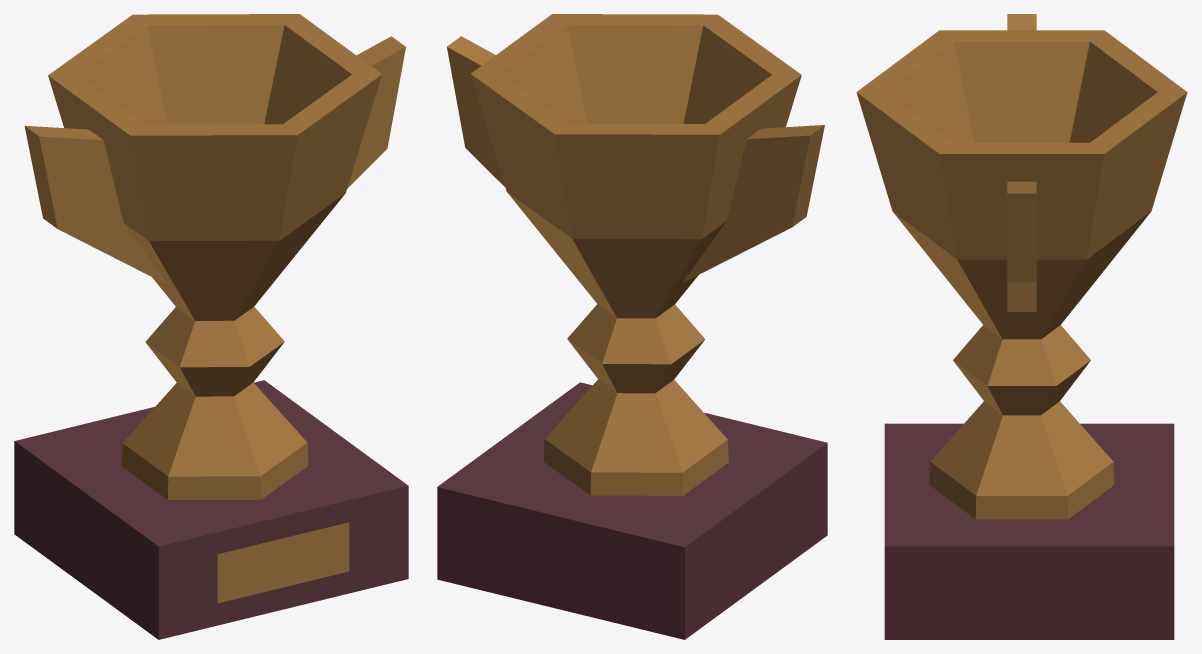
The model's file is trophy-gold.fbx.
3 renders of one model, left to right at view 1: azimuth 30°, elevation 25°; view 2: azimuth 150°, elevation 25°; view 3: azimuth 270°, elevation 25°, orthographic.
Parts seen in each view (by area): view 1: trophy-gold; view 2: trophy-gold; view 3: trophy-gold.
Boxes of the visible parts, bbox=[...] form: trophy-gold: bbox=[14, 14, 408, 639]; trophy-gold: bbox=[437, 14, 827, 639]; trophy-gold: bbox=[856, 14, 1187, 639].
Bounding box in the file's own units: 0.1028 × 0.1298 × 0.08.
